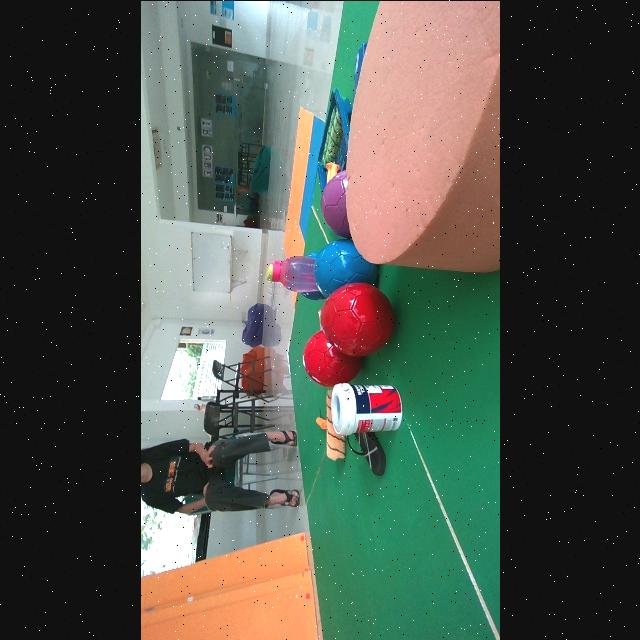B: (314, 238, 377, 296)
P: (320, 170, 350, 237)
R: (319, 281, 394, 356), (303, 330, 362, 386)
